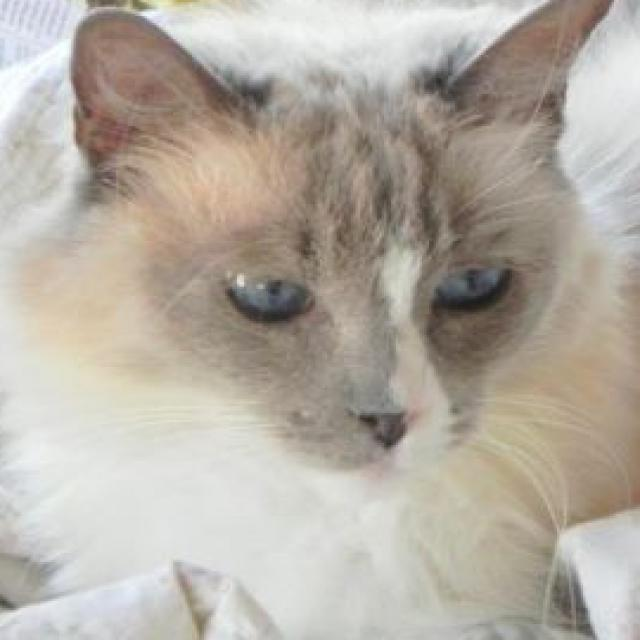Ragdoll: (0, 0, 640, 610)
